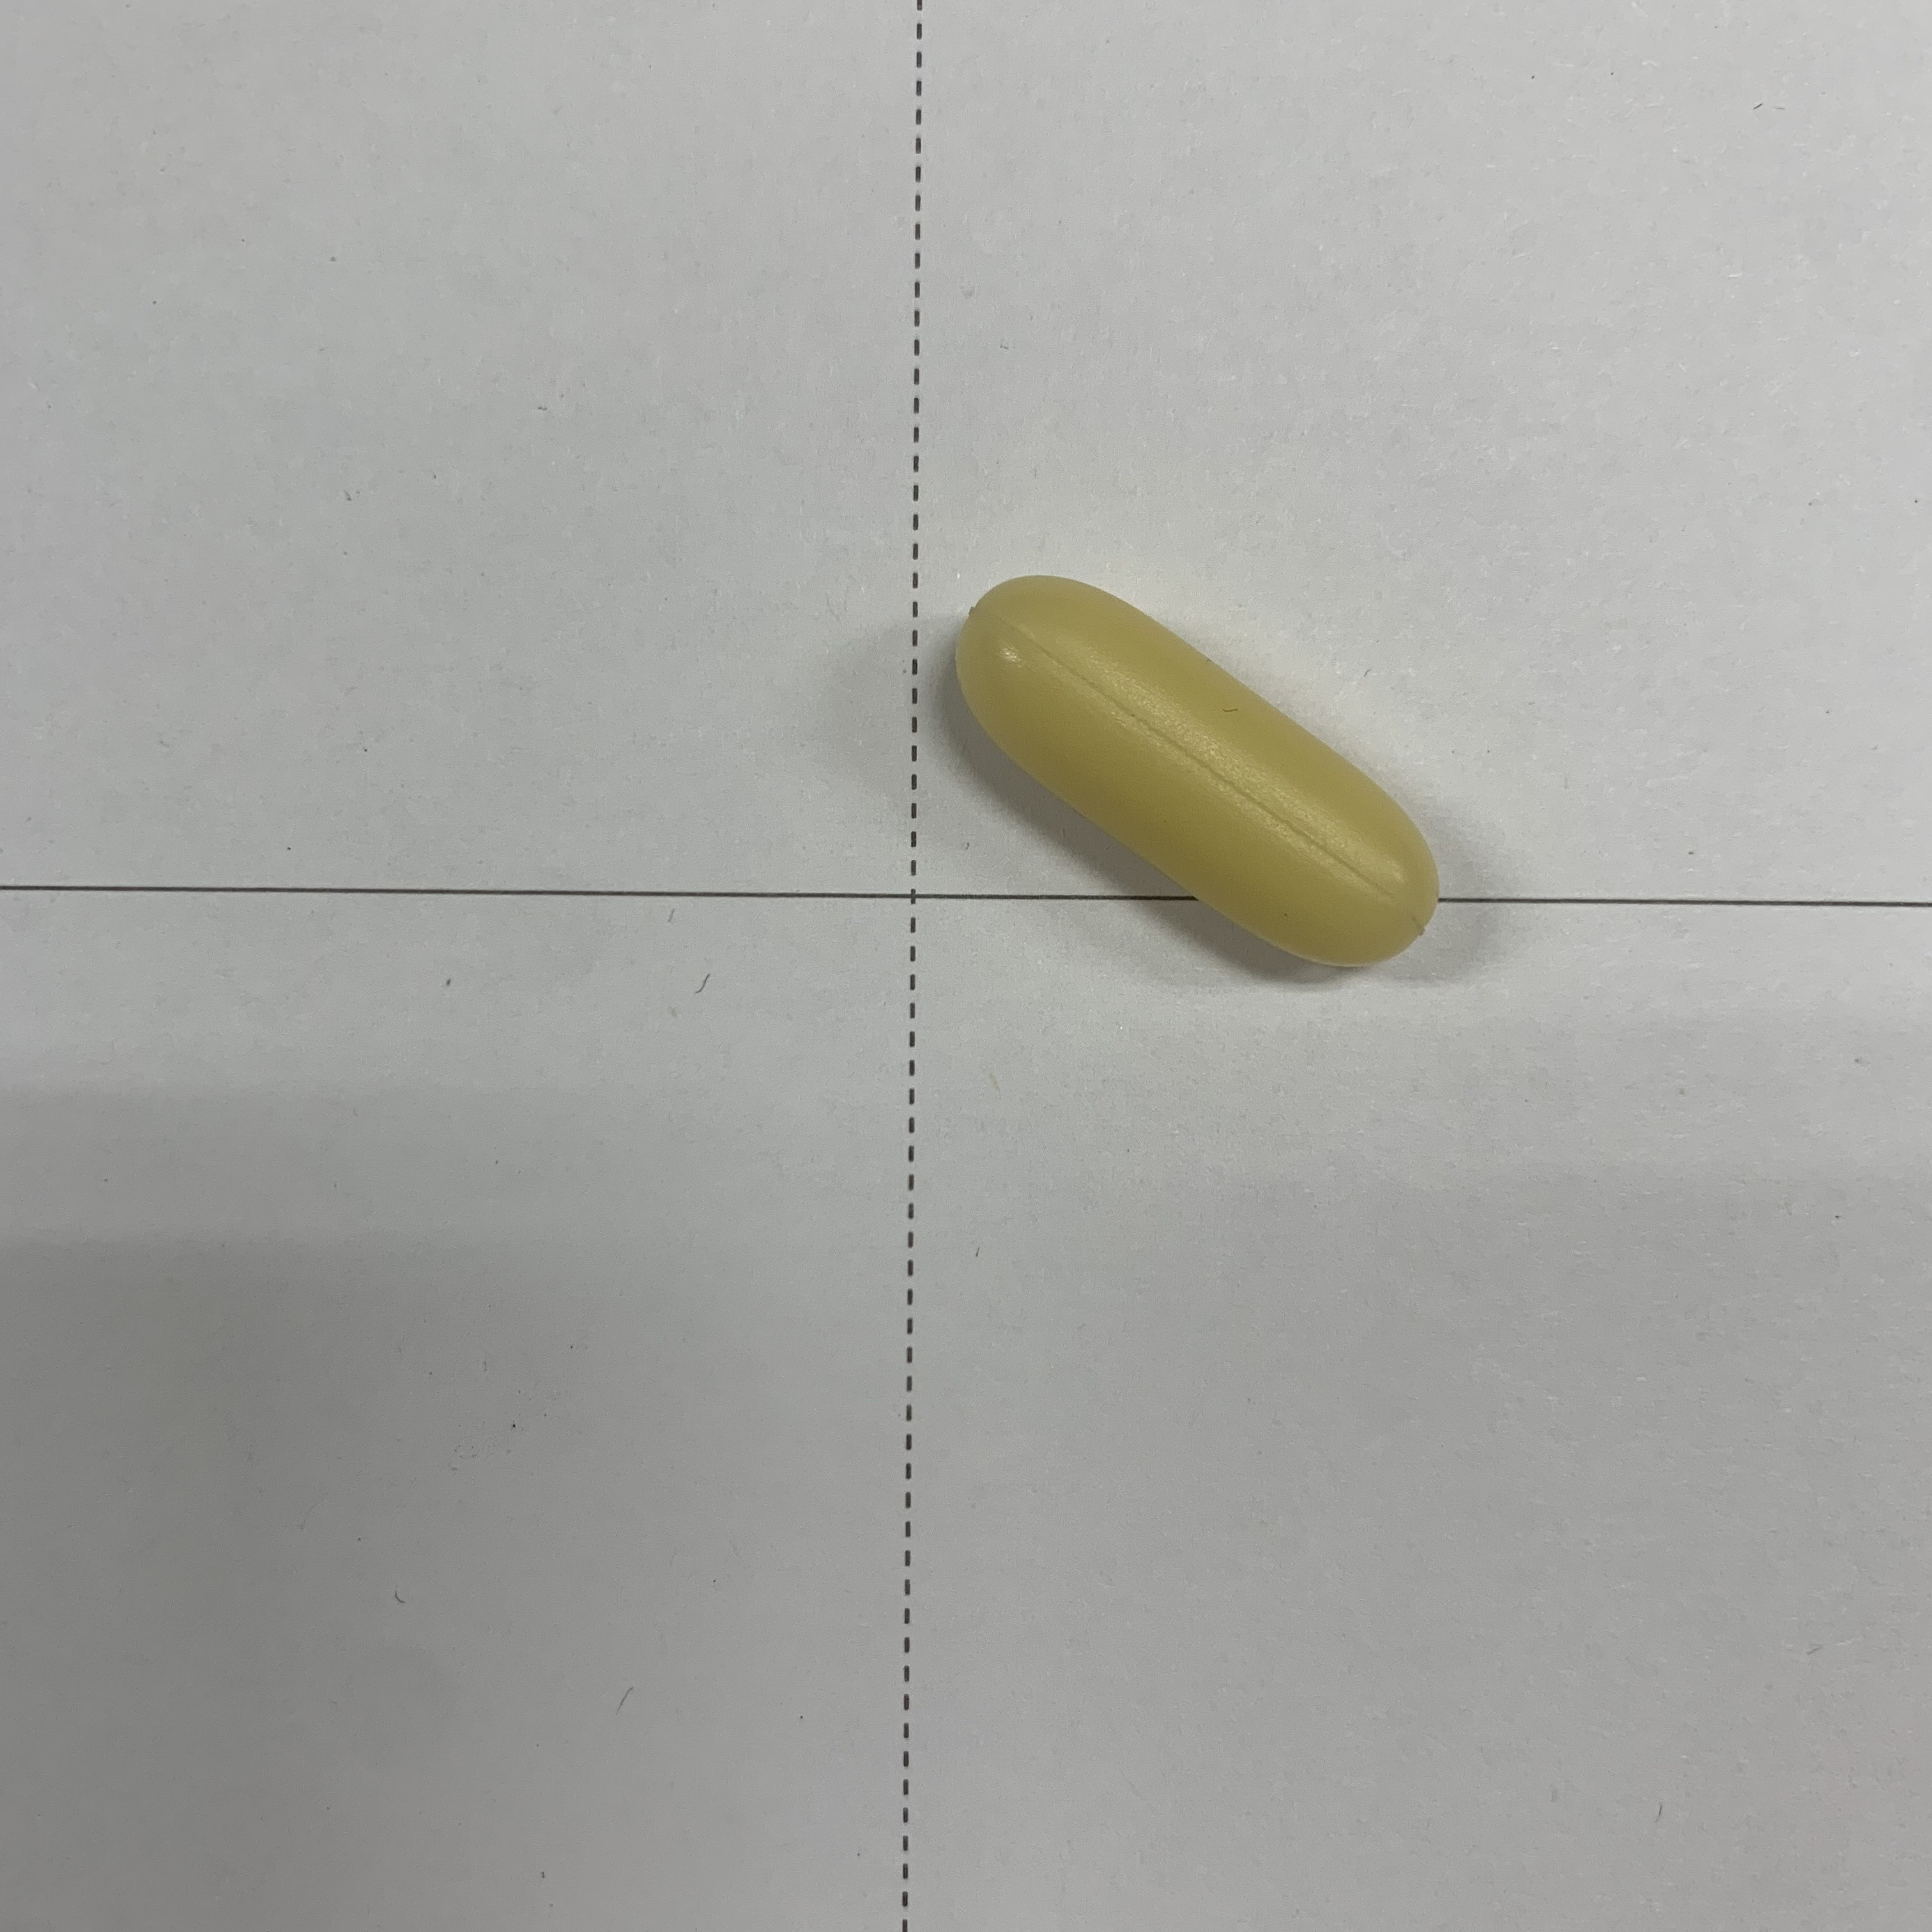rec_drug: (902, 541, 1488, 1070)
